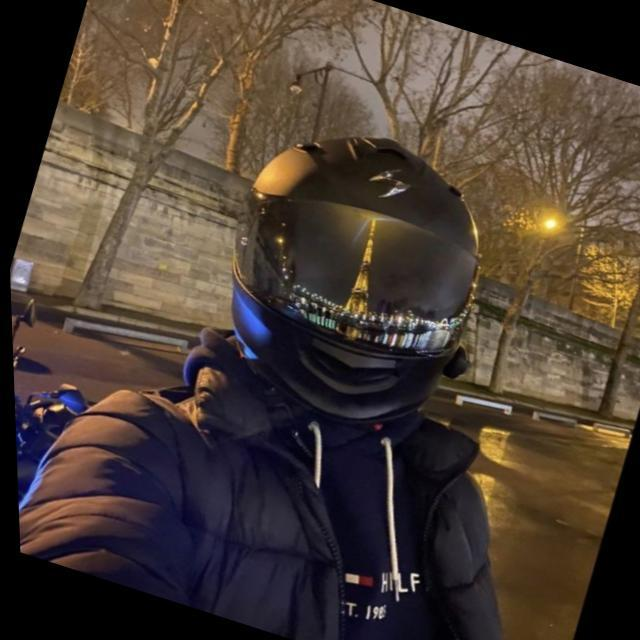Helmet: (225, 124, 494, 430)
